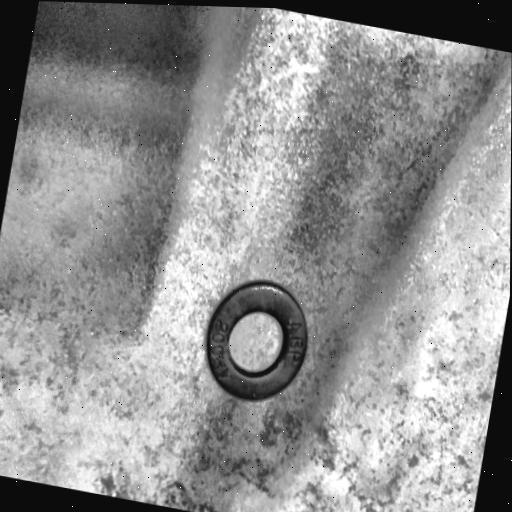Washer: (206, 280, 308, 403)
